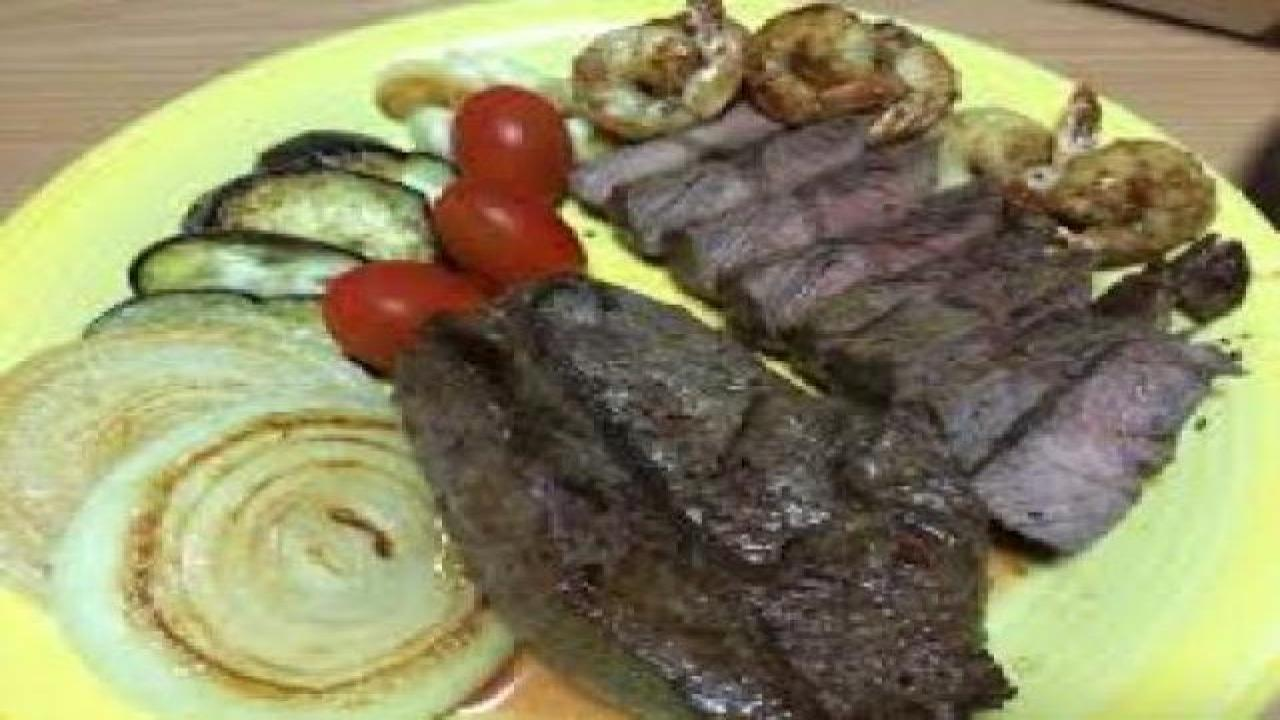Carne: (226, 283, 1051, 694), (717, 68, 1237, 526)
